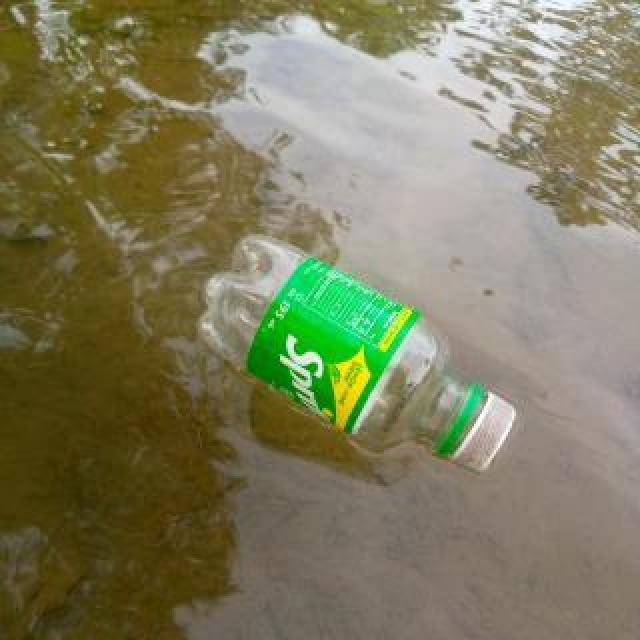bottle: (196, 232, 518, 472)
